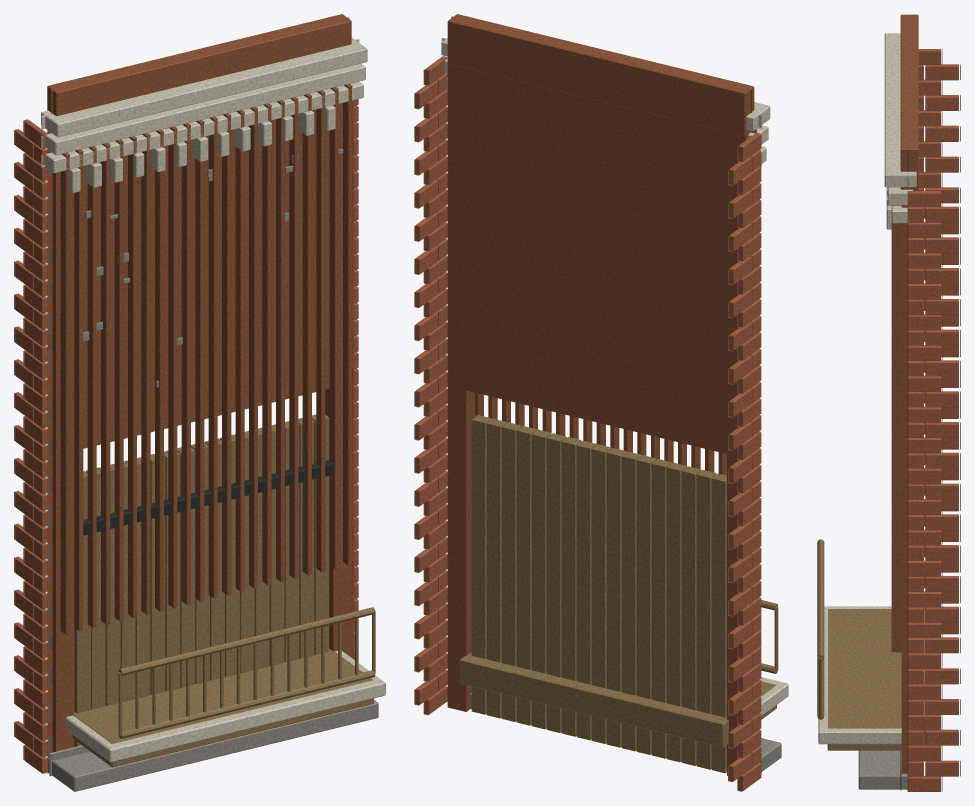
Rendered from WHSE16_lod0.glb.
3 views of the same model, side by side, from view 1: azimuth 30°, elevation 25°; view 2: azimuth 150°, elevation 25°; view 3: azimuth 270°, elevation 25° (orthographic). The views are drawn at different scales.
Parts seen in each view (by area): view 1: WHSE16_FRONT_LOD0; view 2: WHSE16_FRONT_LOD0; view 3: WHSE16_FRONT_LOD0.
Part boxes in pixels (left/top/right/bottom): WHSE16_FRONT_LOD0: left=14, top=14, right=385, bottom=791; WHSE16_FRONT_LOD0: left=414, top=14, right=788, bottom=791; WHSE16_FRONT_LOD0: left=817, top=14, right=960, bottom=791.
Size of the model in its own units: 3.44 by 7.05 by 1.43.
Materials: 10 (10 with a texture image).
